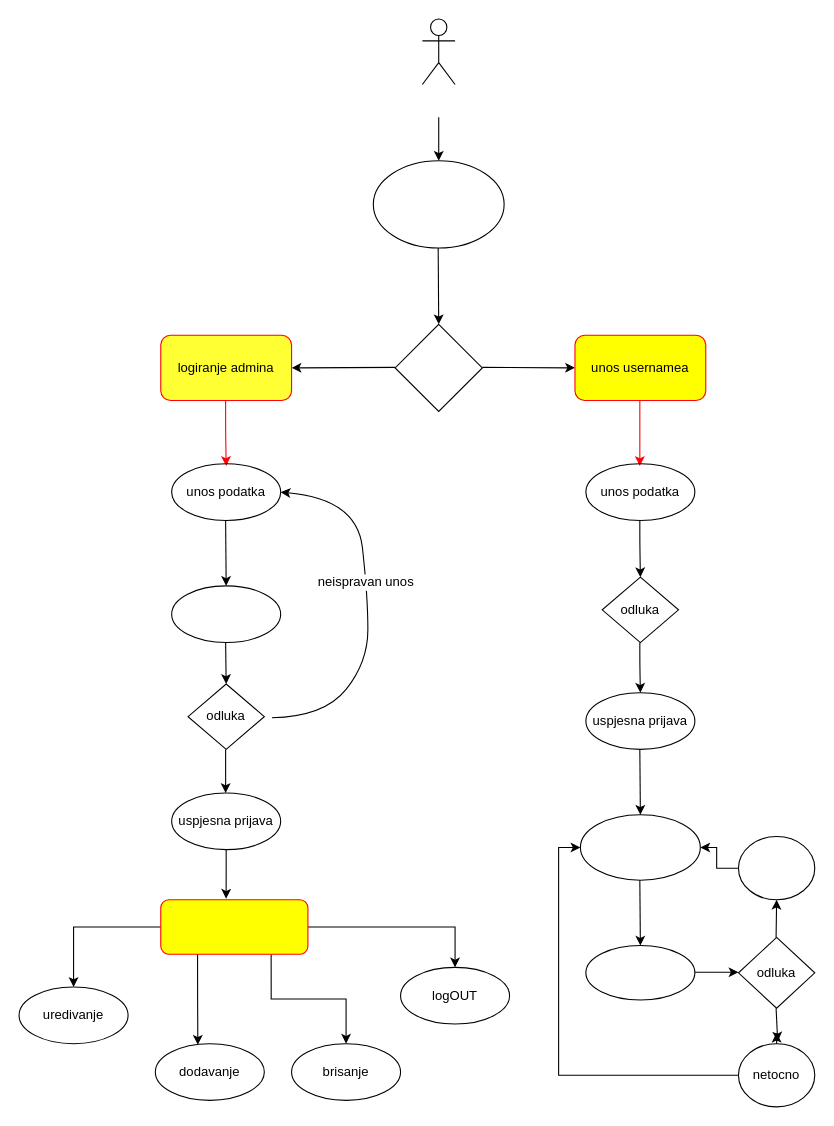
Some shapes in this 834 by 1126 pixel diagram are drawn without their labels. The box of each missing label's shape, as (x1, y1, x2, y2) in pixels:
Actor: (421, 18, 455, 84)
admin dodavanje: (160, 899, 308, 954)
HOME: (372, 160, 504, 248)
odabir odgovora: (585, 944, 695, 1000)
prikaz pitanja: (579, 814, 700, 880)
provjera: (171, 585, 281, 643)
tocno: (737, 835, 815, 900)
